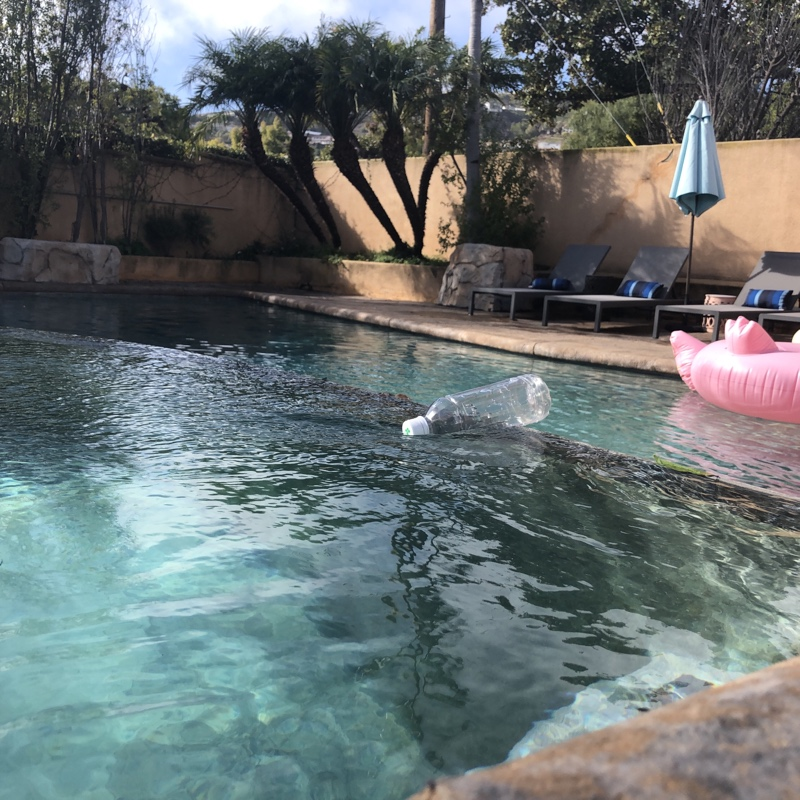Plastic Bottle: (400, 369, 554, 441)
